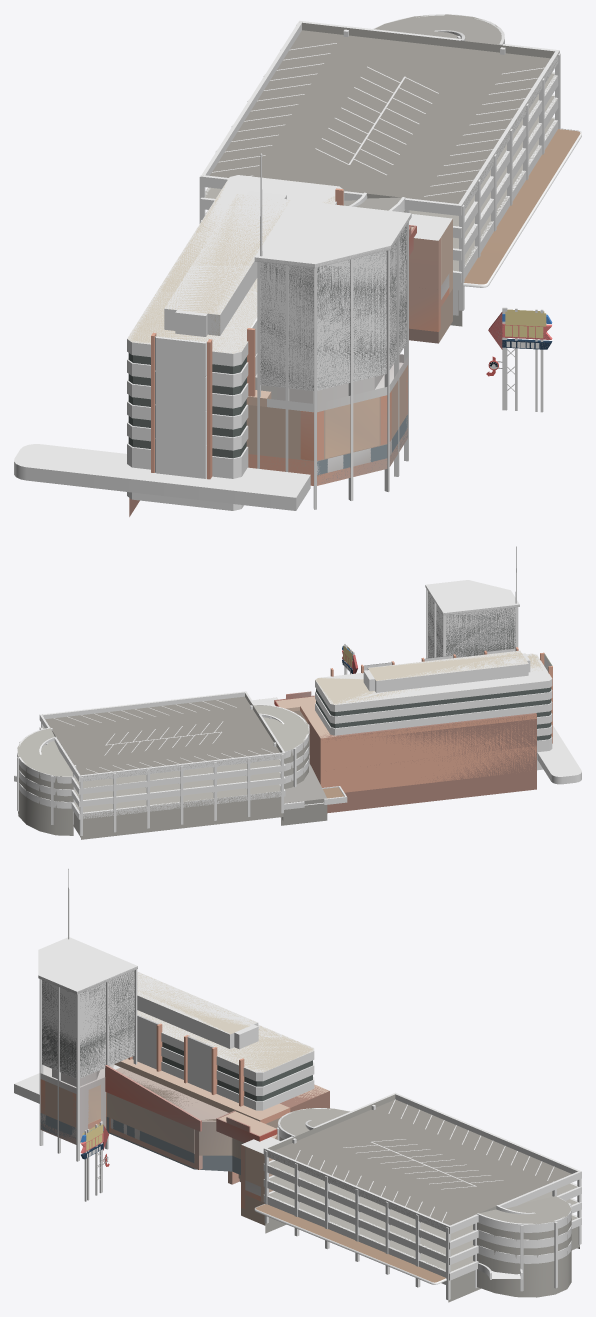
Rendered from mall_parking.dae.
The picture shows the model from 3 angles, top to bottom: view 1: azimuth 30°, elevation 25°; view 2: azimuth 150°, elevation 25°; view 3: azimuth 270°, elevation 25°; orthographic projection. The views are drawn at different scales.
Visible parts, largest first — view 1: mall_parking_a1800, mall_parking_a450, mall_parking_a900; view 2: mall_parking_a450, mall_parking_a1800; view 3: mall_parking_a1800, mall_parking_a450, mall_parking_a900.
Boxes of the visible parts, x1,y1,x2,y2 form: mall_parking_a1800: (14,14,581,510); mall_parking_a450: (128,14,557,516); mall_parking_a900: (302,23,558,348); mall_parking_a450: (17,585,551,839); mall_parking_a1800: (14,546,581,835); mall_parking_a1800: (14,868,581,1300); mall_parking_a450: (38,966,579,1302); mall_parking_a900: (268,1096,495,1231).
Size of the model in its own units: 114 by 106 by 54.03.
